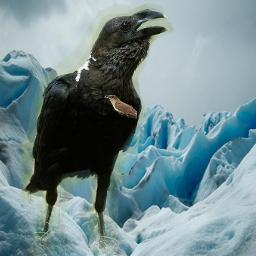Crow: (20, 3, 174, 255)
Cuckoo: (104, 95, 137, 119)
